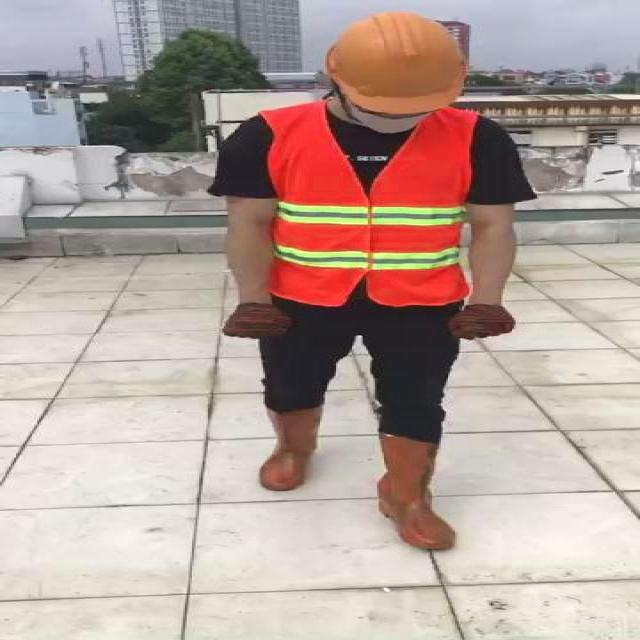boots: (373, 432, 457, 549), (252, 404, 318, 492)
hand_glove: (446, 303, 516, 339), (224, 306, 293, 342)
head_helmet: (316, 8, 469, 116)
person: (202, 11, 529, 568)
vest: (258, 106, 469, 305)
